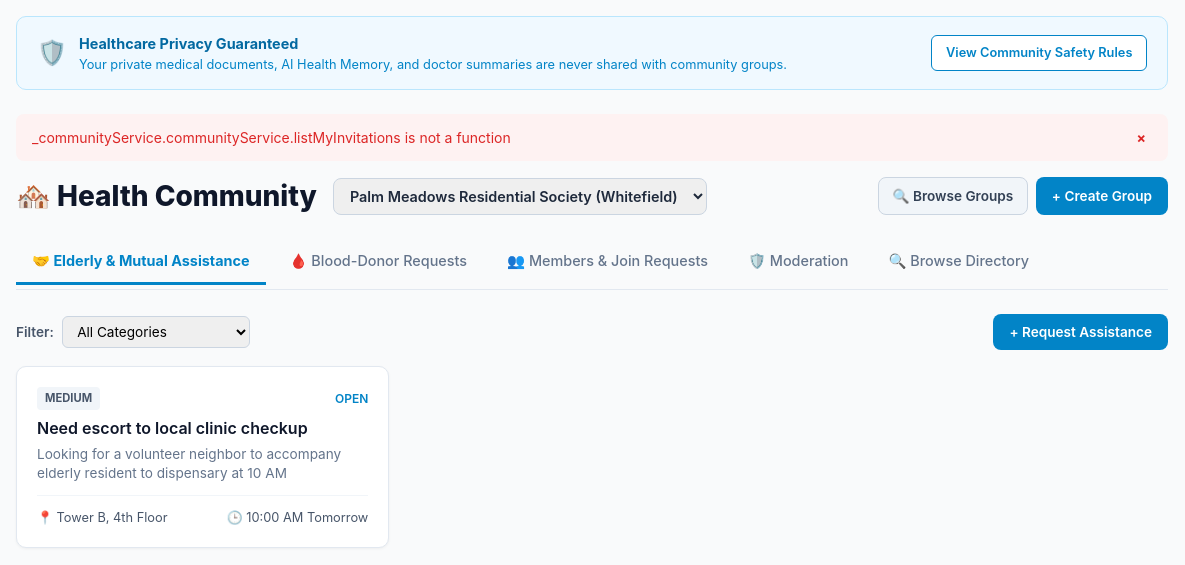
Test: Phase 8 — Community Dashboard UI › renders Member Management tab for group owner
This screenshot has width=1185, height=565.
Click the button "👥 Members & Join Requests". click: [608, 262]
box: left=491, top=239, right=724, bottom=285
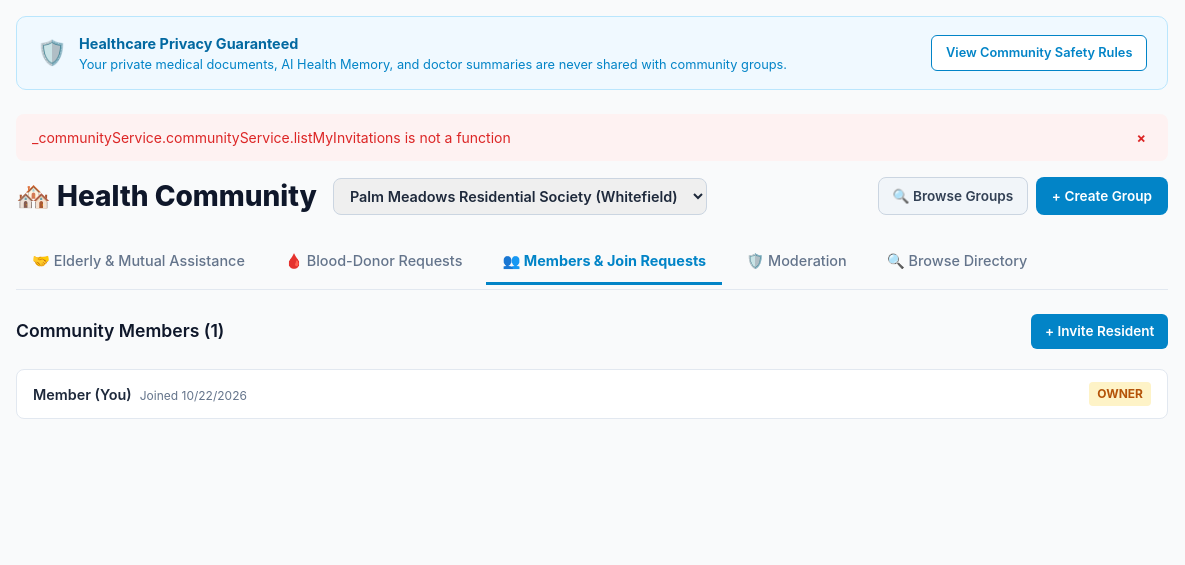
expect the heading "Community Members (1)" is shown: met, box left=16, top=320, right=224, bottom=342
expect the button "+ Invite Resident" is shown: met, box left=1031, top=314, right=1168, bottom=349
